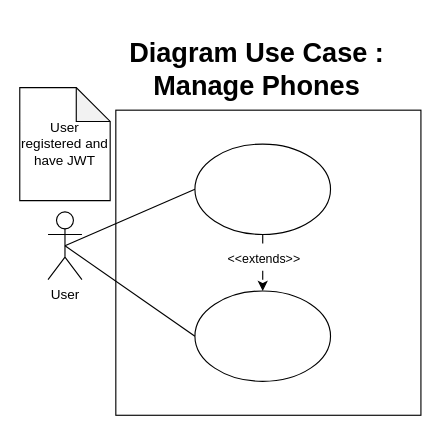
The diagram is 446 pixels wide and 435 high, and some of its shapes have lost their labels. The centre of each missing label's shape, as x and y in pixels:
View phone details: (262,335)
View Phones: (262,188)
